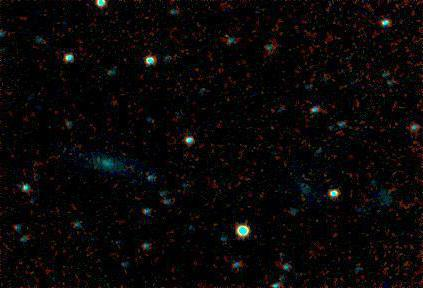star: (211, 18, 241, 48)
